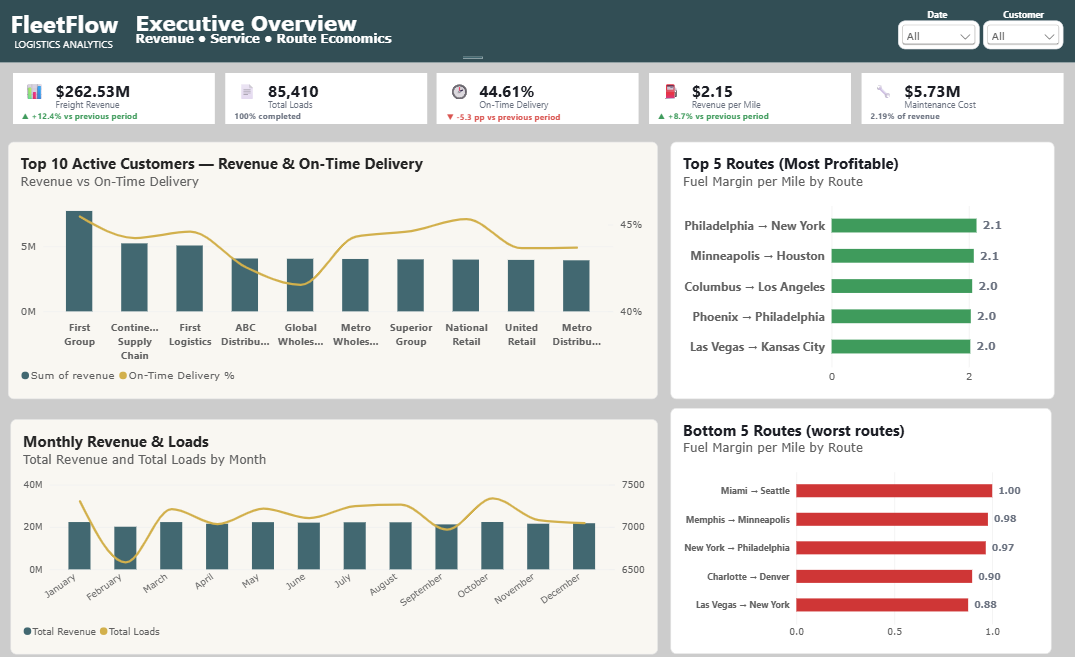

The page's visual inventory and layout, read from the dashboard file:
{"tool":"powerbi","page":{"name":" Executive Overview","canvas":[1920,1080],"ordinal":0},"visuals":[{"type":"shape","box":[242.1,0,1678.2,144.2],"z":0},{"type":"lineClusteredColumnComboChart","title":"Top 10 Active Customers — Revenue & On-Time Delivery","fields":{"Category":["reporting dim_customer.customer_name"],"Y":["Sum(reporting fact_loads.revenue)"],"Y2":["reporting dim_customer.On-Time Delivery %"]},"box":[4,304,1020,428],"z":1000},{"type":"cardVisual","fields":{"Data":["reporting dim_customer.Total Revenue"]},"box":[44,160,302,136.5],"z":2000,"group":"g1"},{"type":"clusteredBarChart","title":"Route Economics — Profit Proxy per Mile","fields":{"Category":["reporting dim_route.Route"],"Y":["Route View.Dynamic Route Profit"]},"box":[1044.3,366,876,428],"z":2000},{"type":"scatterChart","title":"Fleet Productivity — Revenue vs Miles","fields":{"X":["Sum(reporting fact_trips.actual_distance_miles)"],"Y":["Sum(reporting fact_trips.revenue)"],"Category":["reporting fact_trips.truck_id"]},"box":[44.4,752.3,1831.7,303.1],"z":3000},{"type":"textbox","box":[320.3,30.8,432,130],"z":4000},{"type":"group","id":"g1","title":"Group 1","box":[44,160,1832,140],"z":5000},{"type":"image","box":[0,0,242.1,144.2],"z":6000},{"type":"slicer","fields":{"Values":["reporting dim_date.date"]},"box":[1408.4,37,227.3,72.1],"z":7000},{"type":"cardVisual","fields":{"Data":["reporting dim_customer.Revenue Per Mile"]},"box":[1220,160,302,136.5],"z":7000,"group":"g1"},{"type":"slicer","fields":{"Values":["reporting dim_customer.customer_name"]},"box":[1648.7,37,227.3,72.1],"z":8000},{"type":"cardVisual","fields":{"Data":["reporting dim_route.Total Loads"]},"box":[448,163.5,302,136.5],"z":8000,"group":"g1"},{"type":"slicer","fields":{"Values":["Route View.View"]},"box":[1595.1,303.1,223.6,46.2],"z":8001},{"type":"cardVisual","fields":{"Data":["reporting dim_customer.On-Time Delivery %"]},"box":[836,160,302,137.4],"z":9000,"group":"g1"},{"type":"cardVisual","fields":{"Data":["reporting dim_customer.Total Maintenance Cost"]},"box":[1574,161.8,302,136.5],"z":10000,"group":"g1"}]}

Visuals, with their boxes on the page's 1920x1080 design canvas (x1, y1, x2, y2). These are canvas units, not pixel positions in the 1075x657 screenshot, which may show the page scaled, cropped or inside an application window:
shape: (left=242, top=0, right=1920, bottom=144)
"Top 10 Active Customers — Revenue & On-Time Delivery" lineClusteredColumnComboChart: (left=4, top=304, right=1024, bottom=732)
cardVisual - reporting dim_customer.Total Revenue: (left=44, top=160, right=346, bottom=296)
"Route Economics — Profit Proxy per Mile" clusteredBarChart: (left=1044, top=366, right=1920, bottom=794)
"Fleet Productivity — Revenue vs Miles" scatterChart: (left=44, top=752, right=1876, bottom=1055)
textbox: (left=320, top=31, right=752, bottom=161)
"Group 1" group: (left=44, top=160, right=1876, bottom=300)
image: (left=0, top=0, right=242, bottom=144)
slicer - reporting dim_date.date: (left=1408, top=37, right=1636, bottom=109)
cardVisual - reporting dim_customer.Revenue Per Mile: (left=1220, top=160, right=1522, bottom=296)
slicer - reporting dim_customer.customer_name: (left=1649, top=37, right=1876, bottom=109)
cardVisual - reporting dim_route.Total Loads: (left=448, top=164, right=750, bottom=300)
slicer - Route View.View: (left=1595, top=303, right=1819, bottom=349)
cardVisual - reporting dim_customer.On-Time Delivery %: (left=836, top=160, right=1138, bottom=297)
cardVisual - reporting dim_customer.Total Maintenance Cost: (left=1574, top=162, right=1876, bottom=298)
